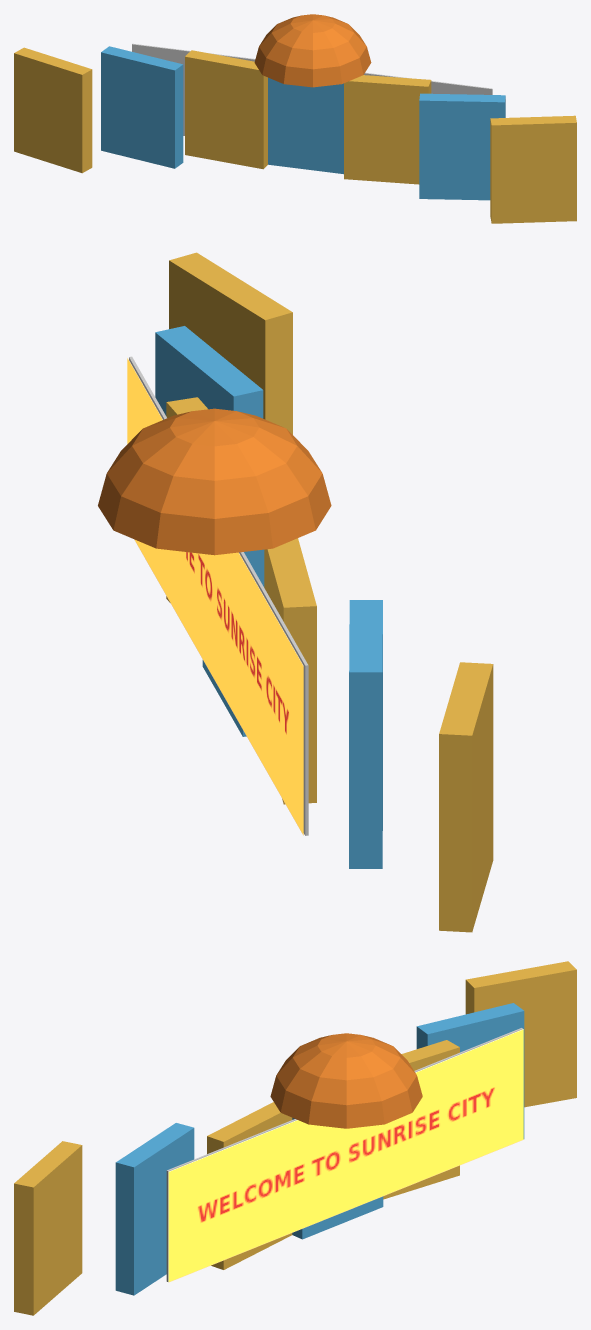
File: sn_sunrise.glb
The picture shows the model from 3 angles, top to bottom: view 1: azimuth 30°, elevation 25°; view 2: azimuth 150°, elevation 25°; view 3: azimuth 270°, elevation 25°; orthographic projection. The views are drawn at different scales.
Parts seen in each view (by area): view 1: sn_sunrise_lod0; view 2: sn_sunrise_lod0; view 3: sn_sunrise_lod0.
Boxes of the visible parts, x1=… form: sn_sunrise_lod0: x1=14, y1=14, x2=576, y2=223; sn_sunrise_lod0: x1=98, y1=252, x2=493, y2=932; sn_sunrise_lod0: x1=14, y1=961, x2=576, y2=1315.
Size of what is drawn, in the model's own units: 9.87 by 3.73 by 10.34.
Materials: 6 (1 with a texture image).
